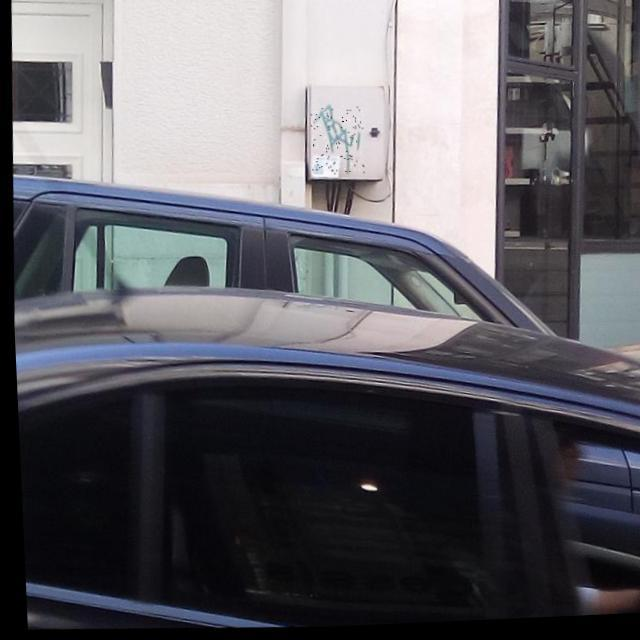-: (308, 106, 364, 179)
